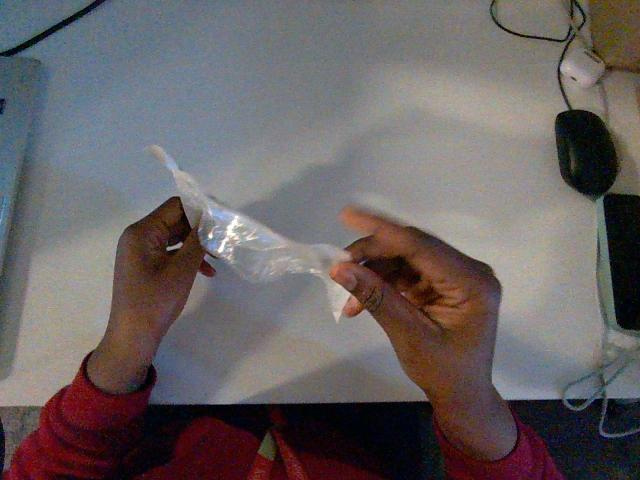gallipot: (147, 145, 349, 320)
